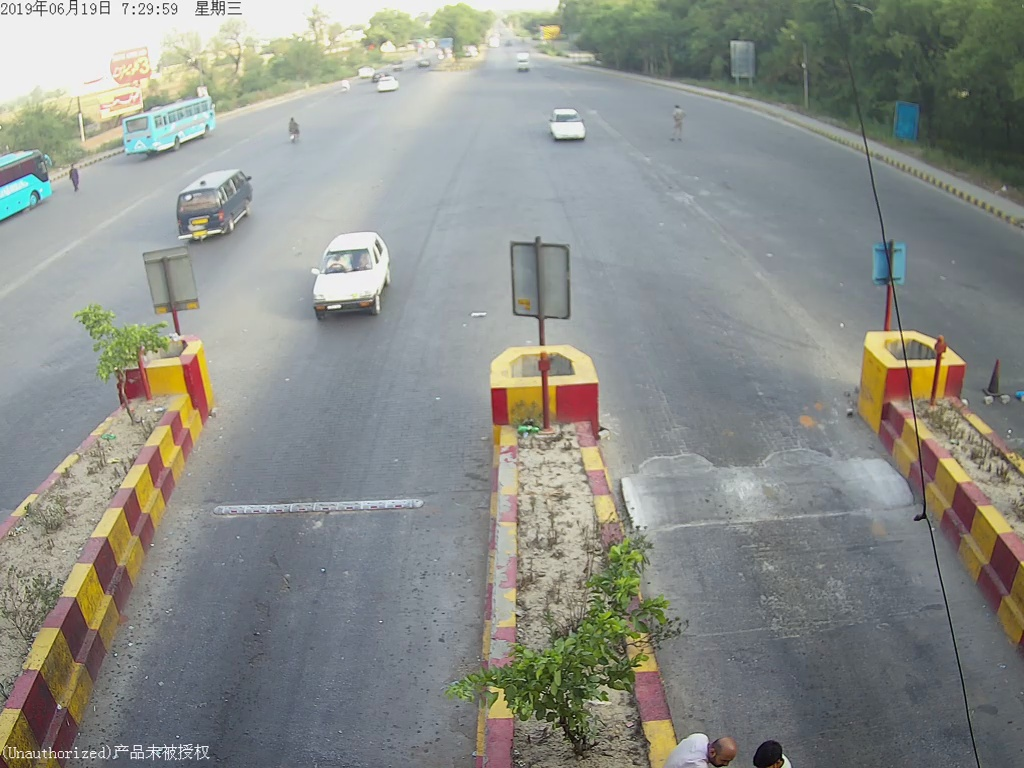Cat-1: (307, 234, 395, 317)
